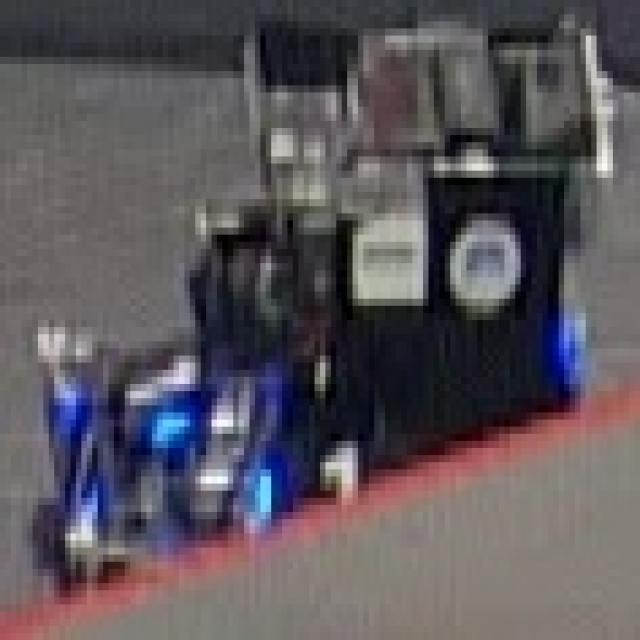B1: (255, 434, 369, 526)
